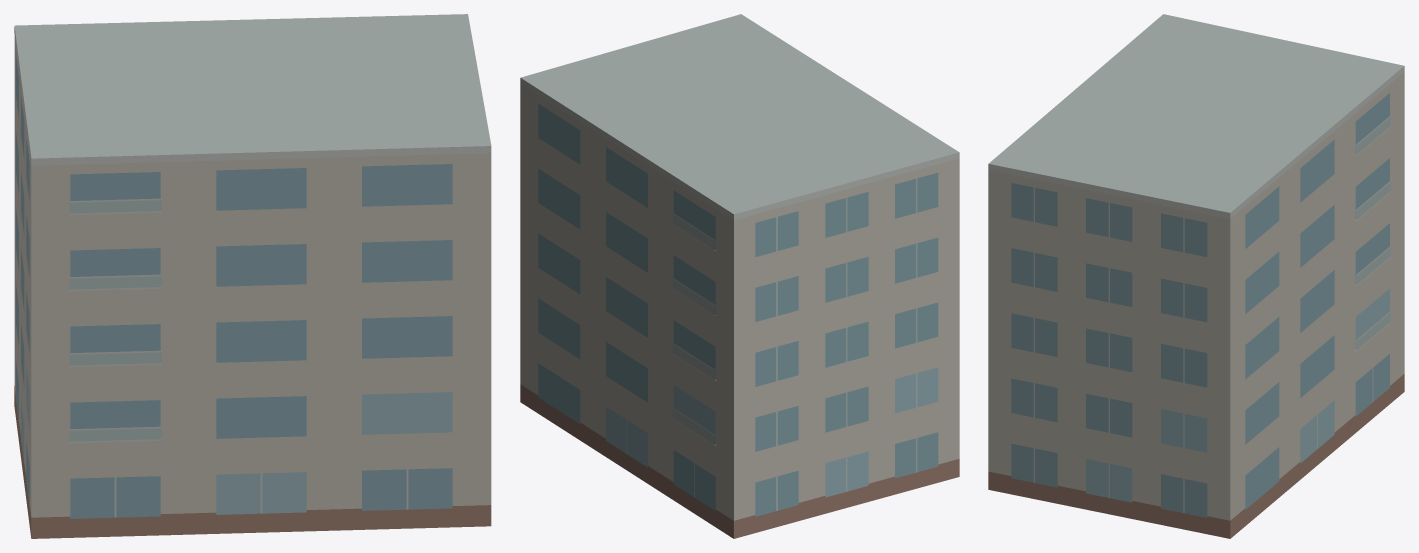
The model's file is survey-upis-32844514.glb.
3 renders of one model, left to right at view 1: azimuth 30°, elevation 25°; view 2: azimuth 150°, elevation 25°; view 3: azimuth 270°, elevation 25°, orthographic. The views are drawn at different scales.
Parts seen in each view (by area): view 1: survey-upis-32844514.tmp; view 2: survey-upis-32844514.tmp; view 3: survey-upis-32844514.tmp.
Boxes of the visible parts, x1,y1,x2,y2 form: survey-upis-32844514.tmp: [14, 14, 491, 538]; survey-upis-32844514.tmp: [520, 14, 959, 538]; survey-upis-32844514.tmp: [988, 14, 1404, 538].
Bounding box in the file's own units: 17.21 × 13.14 × 15.21.
